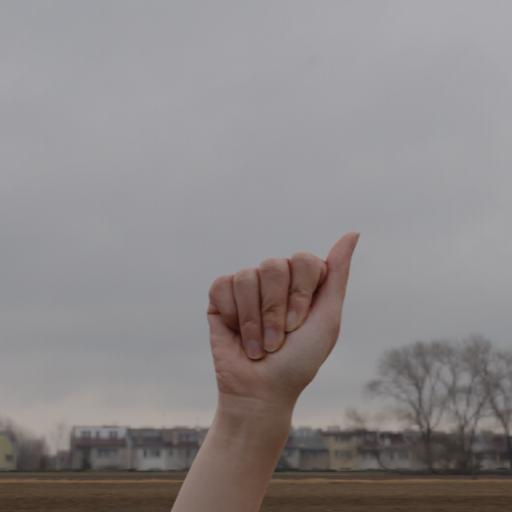A: (198, 220, 370, 414)
